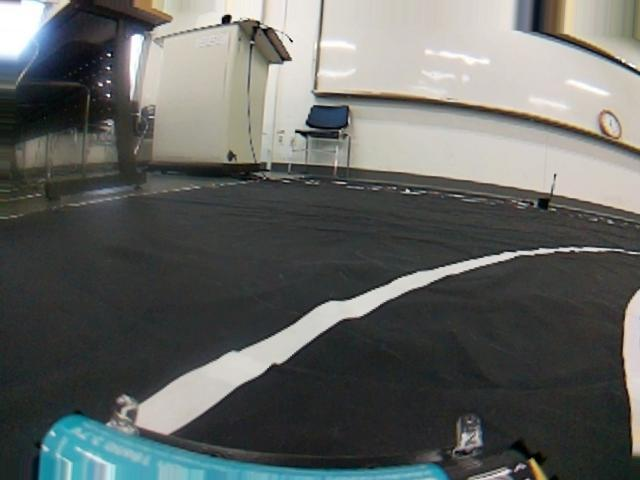right: (4, 202, 640, 480)
